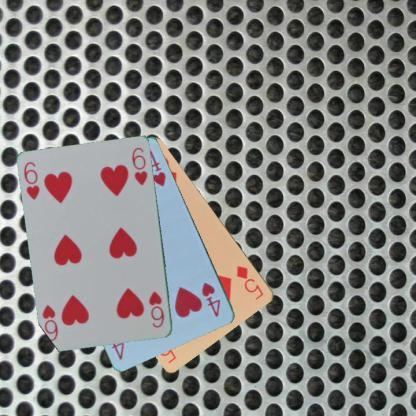4h: (199, 280, 222, 320)
5d: (234, 262, 265, 302)
6h: (146, 288, 166, 330), (22, 160, 42, 202)
